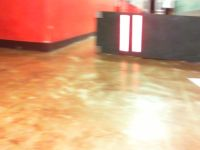switch: (118, 15, 130, 52), (132, 15, 142, 52)
